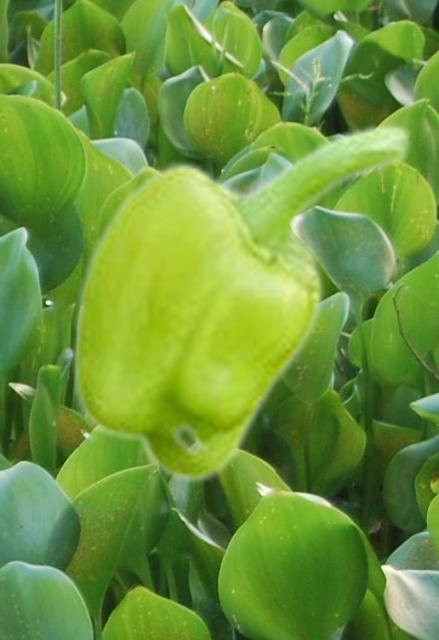bell_pepper: (69, 121, 413, 483)
